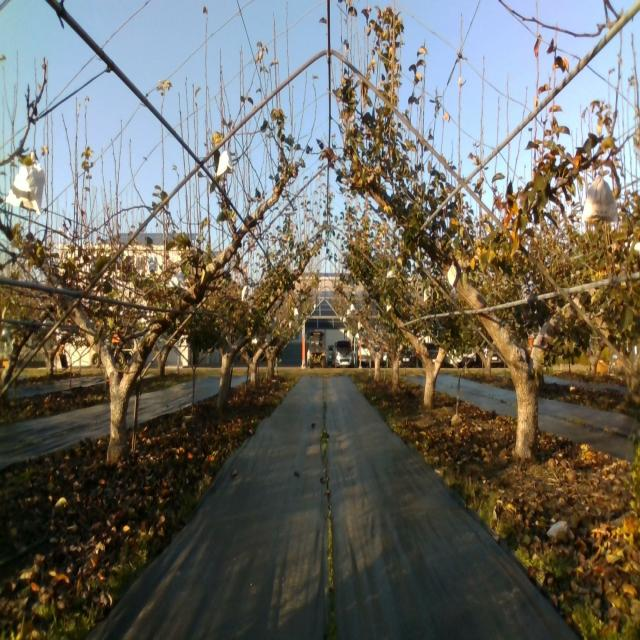pearbags: (5, 153, 46, 214), (582, 171, 619, 223), (217, 152, 233, 178), (167, 267, 184, 288), (447, 259, 459, 288)
